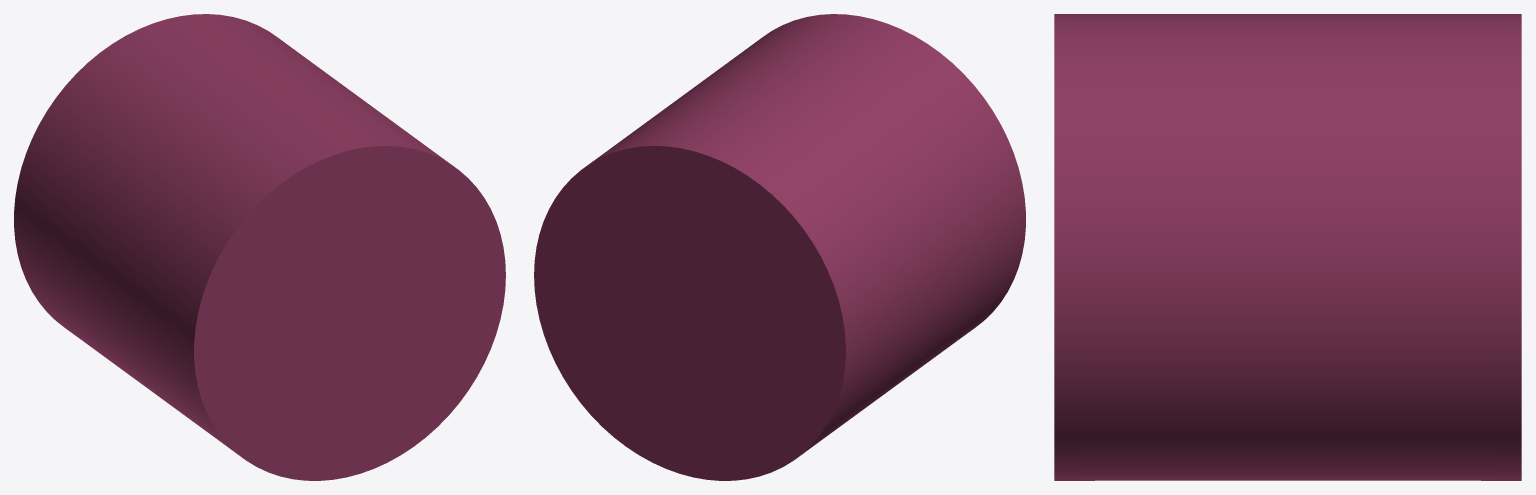
File: unit_cylinder.obj
3 views of the same model, side by side, from view 1: azimuth 30°, elevation 25°; view 2: azimuth 150°, elevation 25°; view 3: azimuth 270°, elevation 25° (orthographic). The views are drawn at different scales.
Parts seen in each view (by area): view 1: mesh 1 unit_c; view 2: mesh 1 unit_c; view 3: mesh 1 unit_c.
Part boxes in pixels (left/top/right/bottom): mesh 1 unit_c: left=14, top=14, right=505, bottom=480; mesh 1 unit_c: left=534, top=14, right=1025, bottom=480; mesh 1 unit_c: left=1054, top=14, right=1521, bottom=480.
Bounding box in the file's own units: 1 × 1 × 1.
